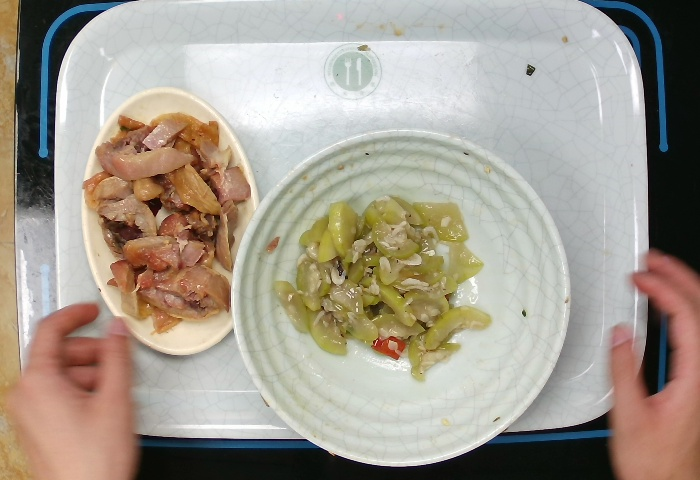JYsf-Da_Tang_Wan: (225, 117, 584, 471)
JYsf-Tuo_Yuan_Wan: (78, 85, 270, 363)
